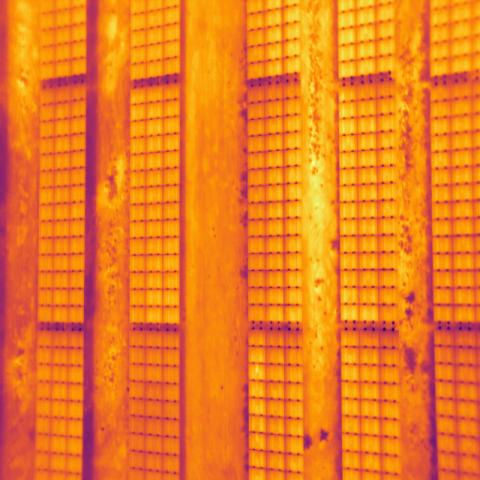fault: (247, 345, 267, 451)
